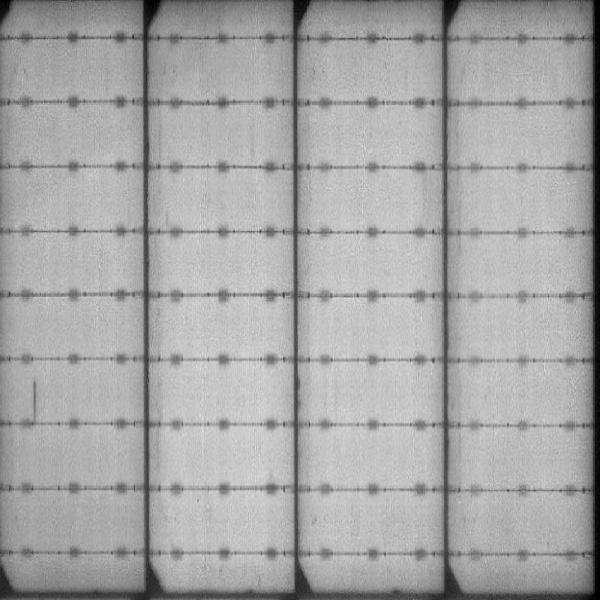scratch: (28, 377, 43, 423)
